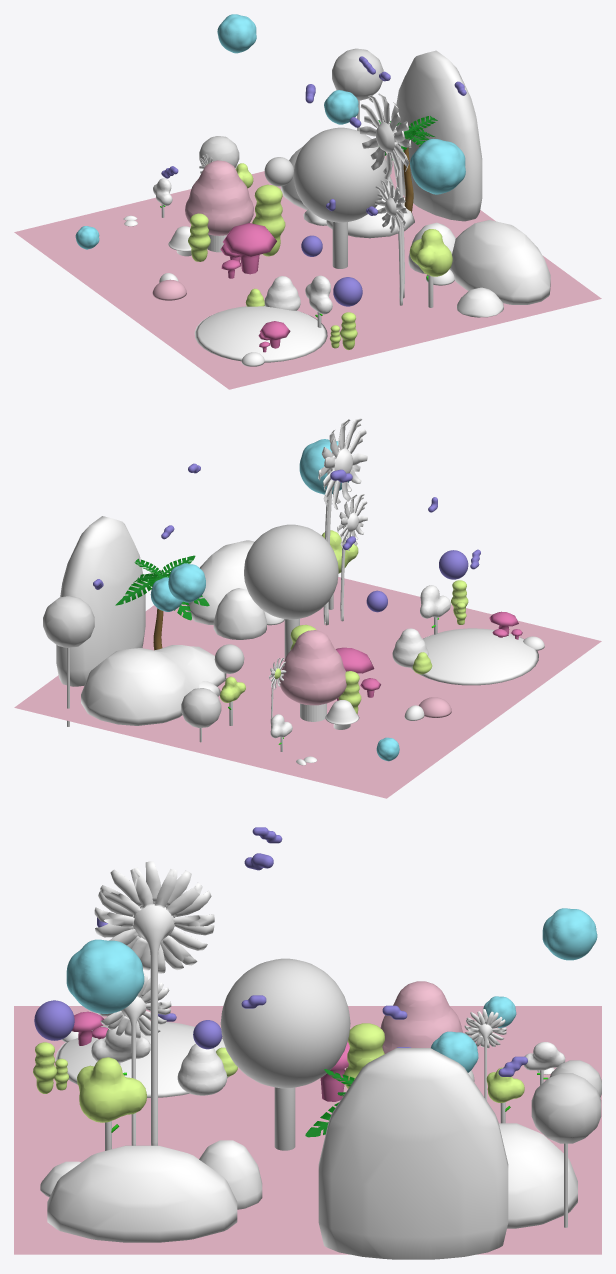
Rendered from homeview.glb.
3 renders of one model, top to bottom at view 1: azimuth 30°, elevation 25°; view 2: azimuth 150°, elevation 25°; view 3: azimuth 270°, elevation 25°, orthographic. The views are drawn at different scales.
Visible parts, largest first — view 1: Plane, Mball.007, 球体.001, Mball.001, 球体.016, tree_04_t, Daisy, 融球.004, 融球.014, Mball.002, Circle.002, Mball.008 (+17 smaller); view 2: Plane, Mball.007, Mball.002, 球体.001, 球体.016, tree_04_t, Mball.001, Daisy, 融球.014, Mball.003, 融球.001, 融球.013 (+12 smaller); view 3: Plane, Mball.007, Mball.001, 球体.001, Daisy, Mball.002, 融球.004, 融球.014, 球体.016, tree_04_t, Mball.008, Mball.003 (+18 smaller).
Boxes of the visible parts, left/top/right/bottom form: Plane: left=14, top=152, right=601, bottom=389; Mball.007: left=393, top=50, right=482, bottom=221; 球体.001: left=293, top=127, right=388, bottom=222; Mball.001: left=450, top=220, right=550, bottom=304; 球体.016: left=194, top=306, right=327, bottom=362; tree_04_t: left=185, top=160, right=253, bottom=235; Daisy: left=359, top=93, right=411, bottom=298; 融球.004: left=410, top=138, right=465, bottom=194; 融球.014: left=332, top=48, right=383, bottom=100; Mball.002: left=281, top=146, right=414, bottom=238; Circle.002: left=223, top=223, right=276, bottom=274; Mball.008: left=409, top=229, right=452, bottom=276; Plane: left=14, top=577, right=601, bottom=798; Mball.007: left=56, top=516, right=145, bottom=686; Mball.002: left=81, top=645, right=226, bottom=725; 球体.001: left=244, top=524, right=338, bottom=619; 球体.016: left=411, top=628, right=538, bottom=685; tree_04_t: left=279, top=630, right=346, bottom=705; Mball.001: left=186, top=540, right=254, bottom=624; Daisy: left=318, top=418, right=367, bottom=625; 融球.014: left=43, top=596, right=94, bottom=647; Mball.003: left=213, top=588, right=266, bottom=639; 融球.001: left=181, top=688, right=221, bottom=728; 融球.013: left=168, top=563, right=205, bottom=602; Plane: left=14, top=1006, right=601, bottom=1254; Mball.007: left=318, top=1048, right=508, bottom=1259; Mball.001: left=47, top=1145, right=237, bottom=1242; 球体.001: left=220, top=958, right=350, bottom=1088; Daisy: left=94, top=861, right=214, bottom=1145; Mball.002: left=499, top=1123, right=577, bottom=1228; 融球.004: left=66, top=939, right=144, bottom=1013; 融球.014: left=531, top=1073, right=601, bottom=1143; 球体.016: left=55, top=1021, right=229, bottom=1097; tree_04_t: left=380, top=981, right=463, bottom=1053; Mball.008: left=77, top=1057, right=146, bottom=1122; Mball.003: left=199, top=1140, right=262, bottom=1209.
Size of the model in its own units: 57.59 by 32.26 by 56.17.
Materials: 15 (2 with a texture image).
